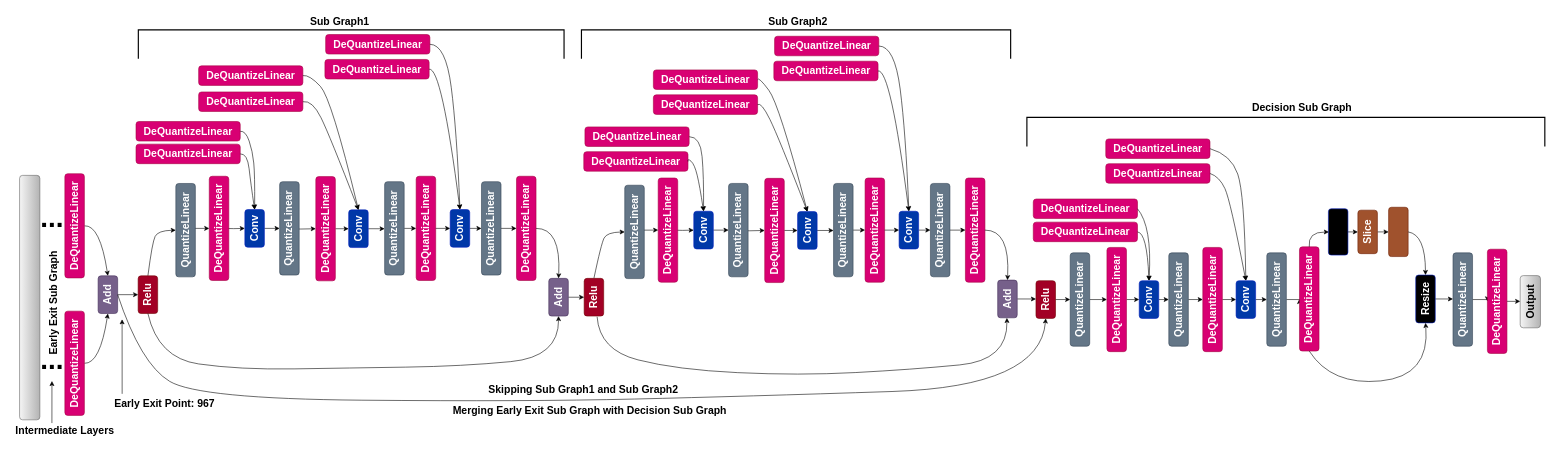
The diagram is 1555 pixels wide and 451 high, and some of its shapes have lost their labels. The box of each missing label's shape, as (x1, y1, x2, y2) in pixels:
Concat: (1388, 207, 1408, 257)
Input: (19, 175, 40, 420)
Shape: (1328, 208, 1348, 255)
